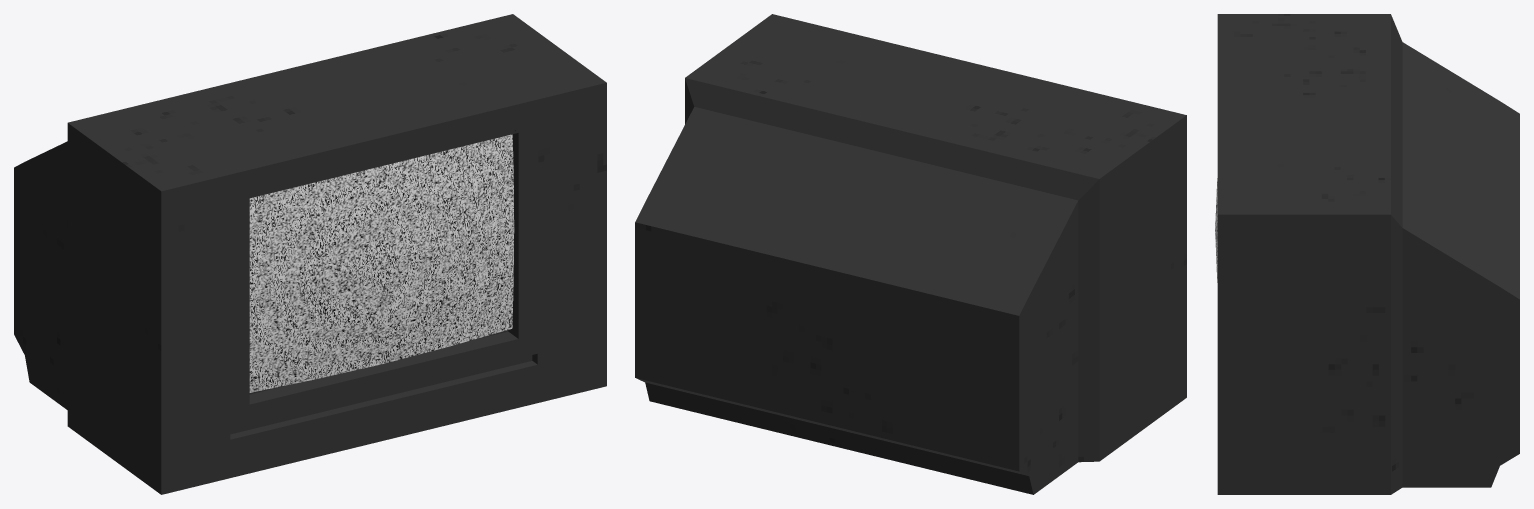
File: Television.fbx
The picture shows the model from 3 angles, left to right: view 1: azimuth 30°, elevation 25°; view 2: azimuth 150°, elevation 25°; view 3: azimuth 270°, elevation 25°; orthographic projection. The views are drawn at different scales.
Visible parts, largest first — view 1: TV, TV_Screen; view 2: TV; view 3: TV.
Boxes of the visible parts, <box> form: TV: <box>14,14,606,494</box>; TV_Screen: <box>249,134,514,392</box>; TV: <box>635,14,1186,494</box>; TV: <box>1217,14,1519,494</box>.
Bounding box in the file's own units: 188 × 123 × 121.
2 materials, 2 textured.
